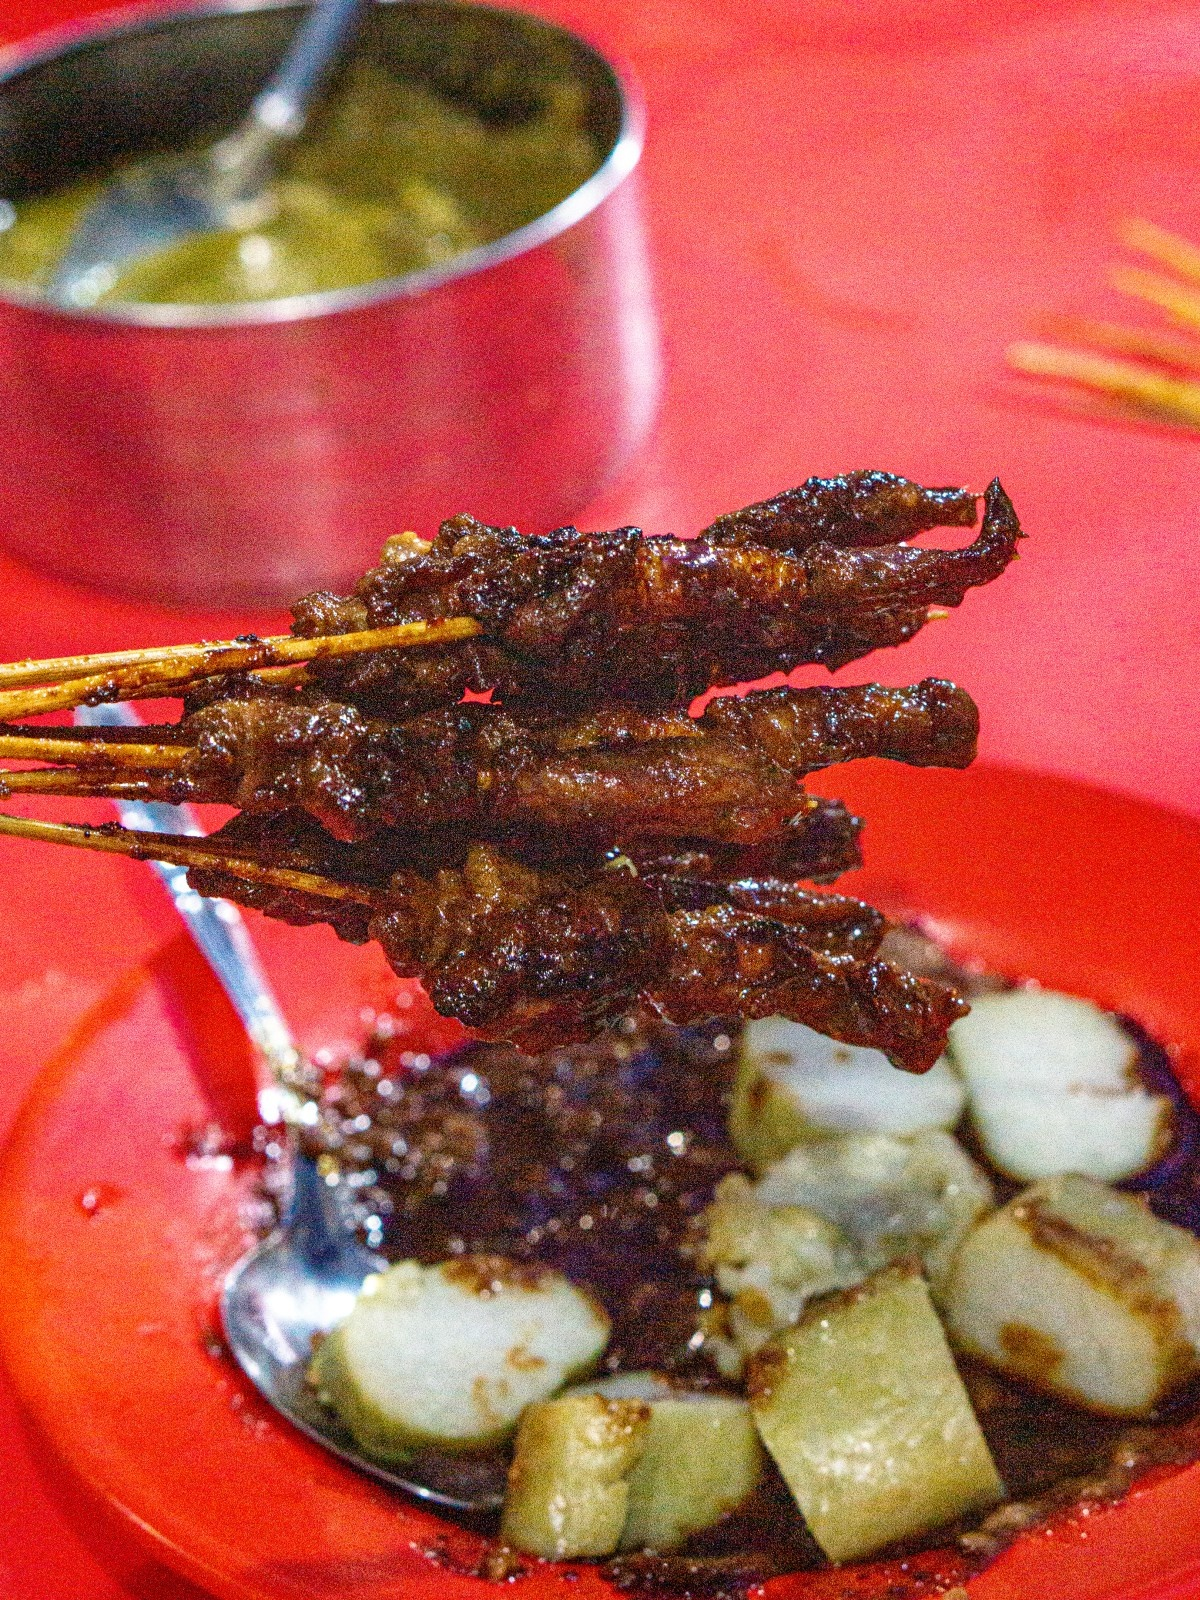sate_madura: (1, 470, 1024, 1077)
